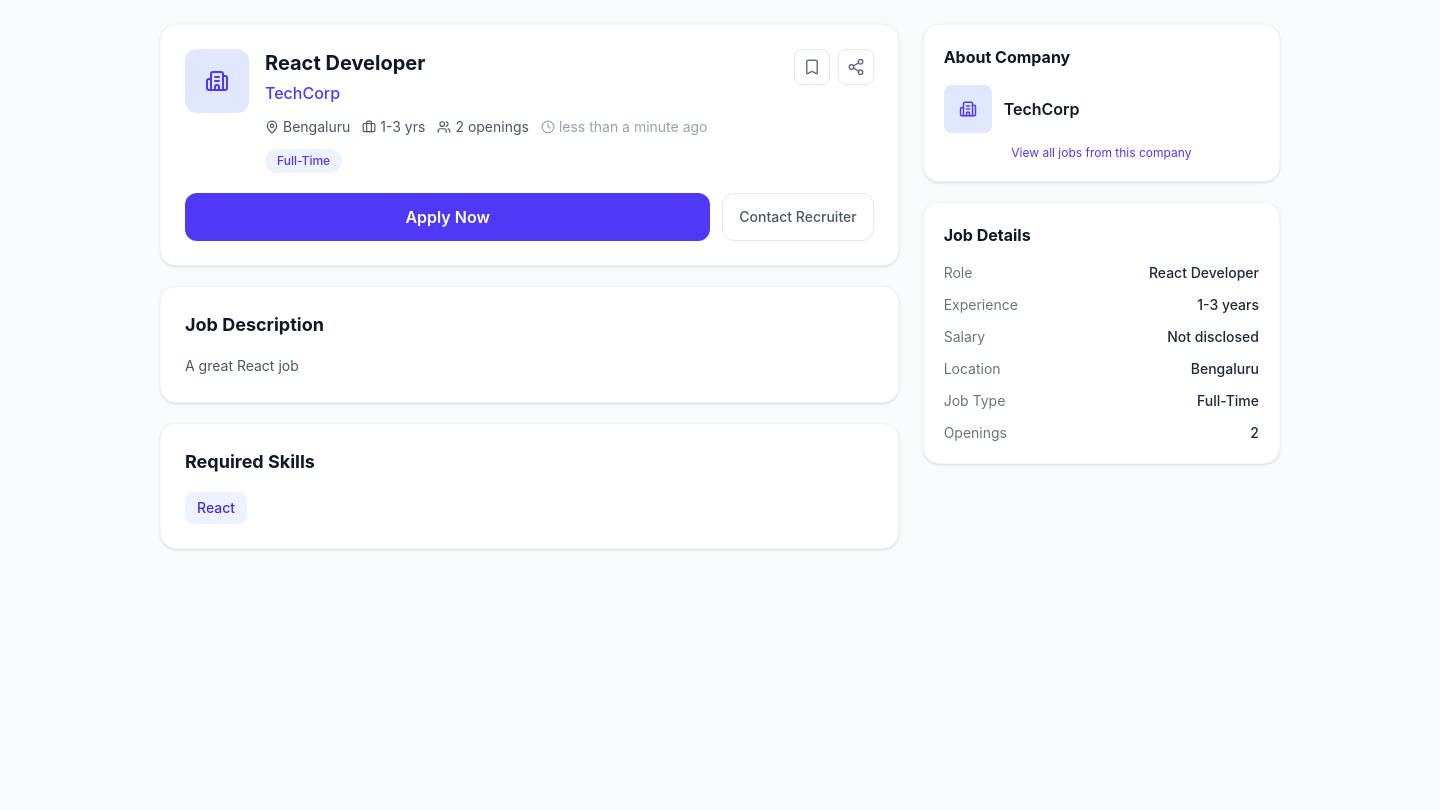
Scenario: JobDetail — Apply modal › cancel button closes the apply modal
Click the button "Apply Now".
click(448, 217)  # box [185,193,710,241]
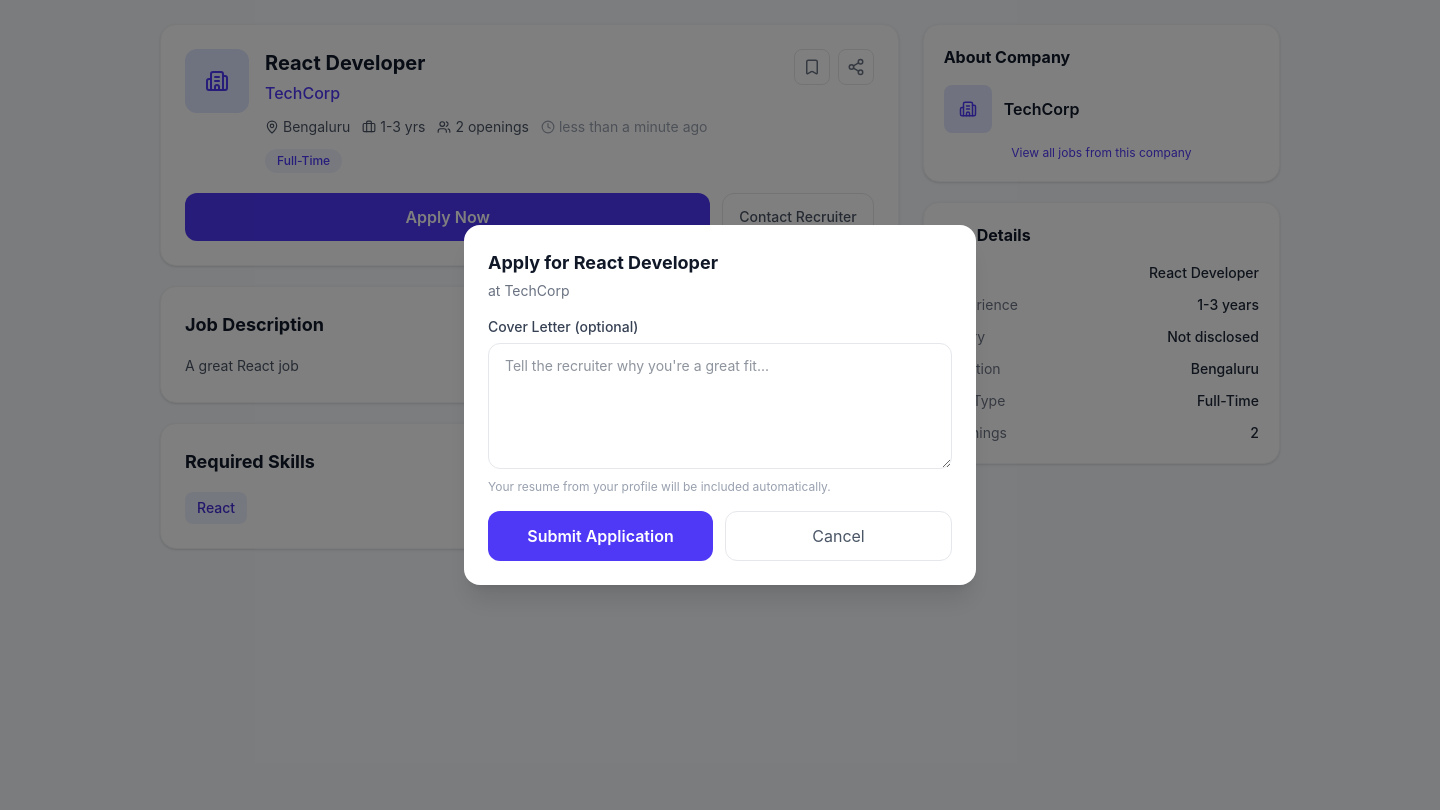
expect the heading "Apply for React Developer" is shown: met, box [488,252,718,273]
Click the button "Cancel".
click(838, 536)  # box [725,511,952,561]
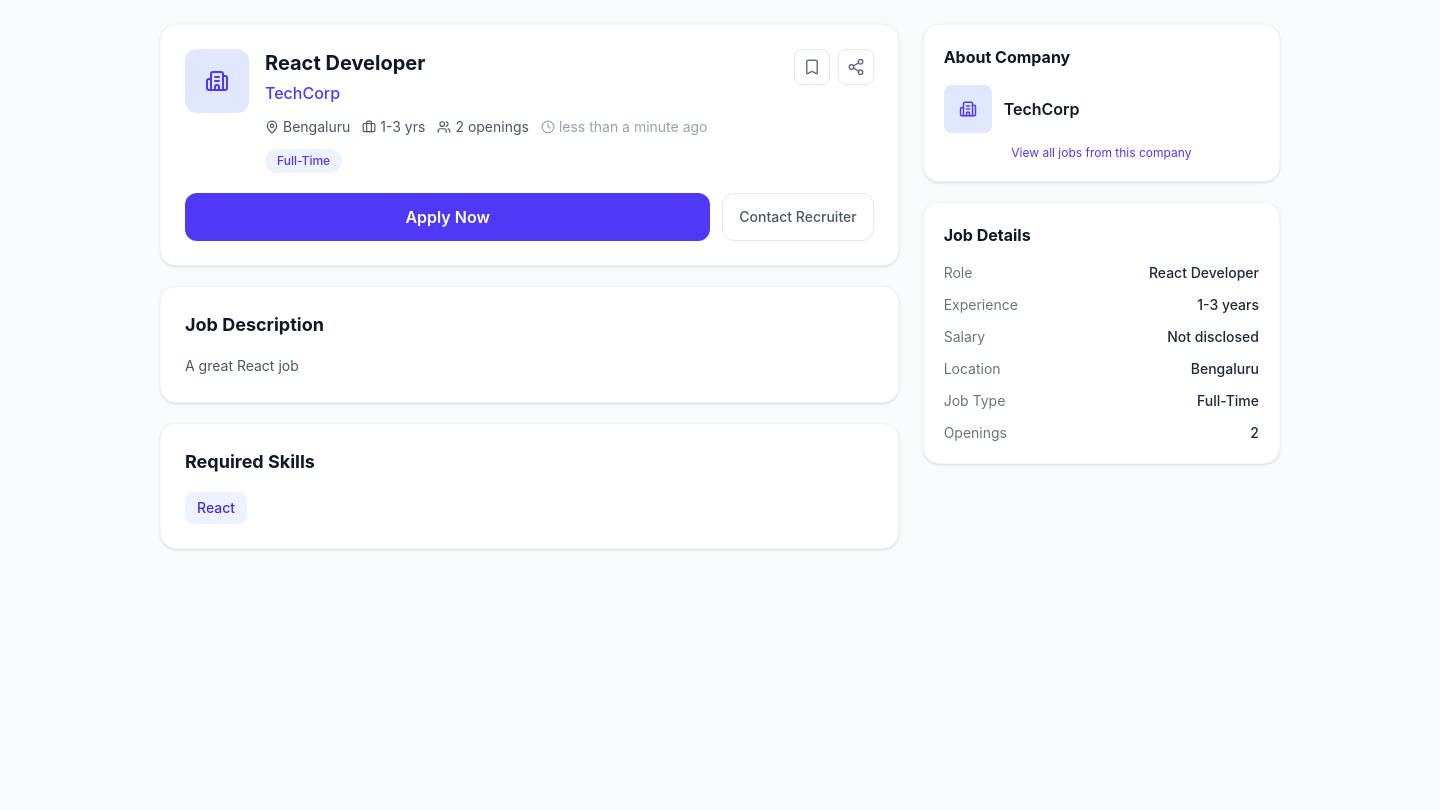
expect the heading "Apply for React Developer" is gone: met
